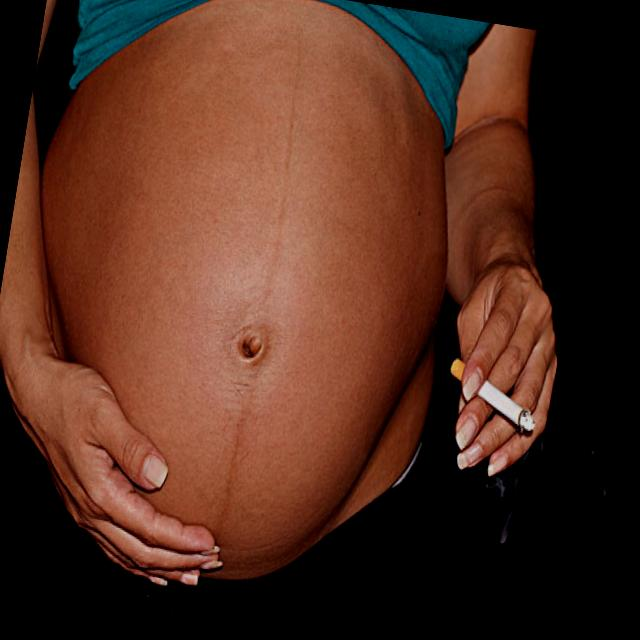cigarette: (436, 355, 545, 442)
